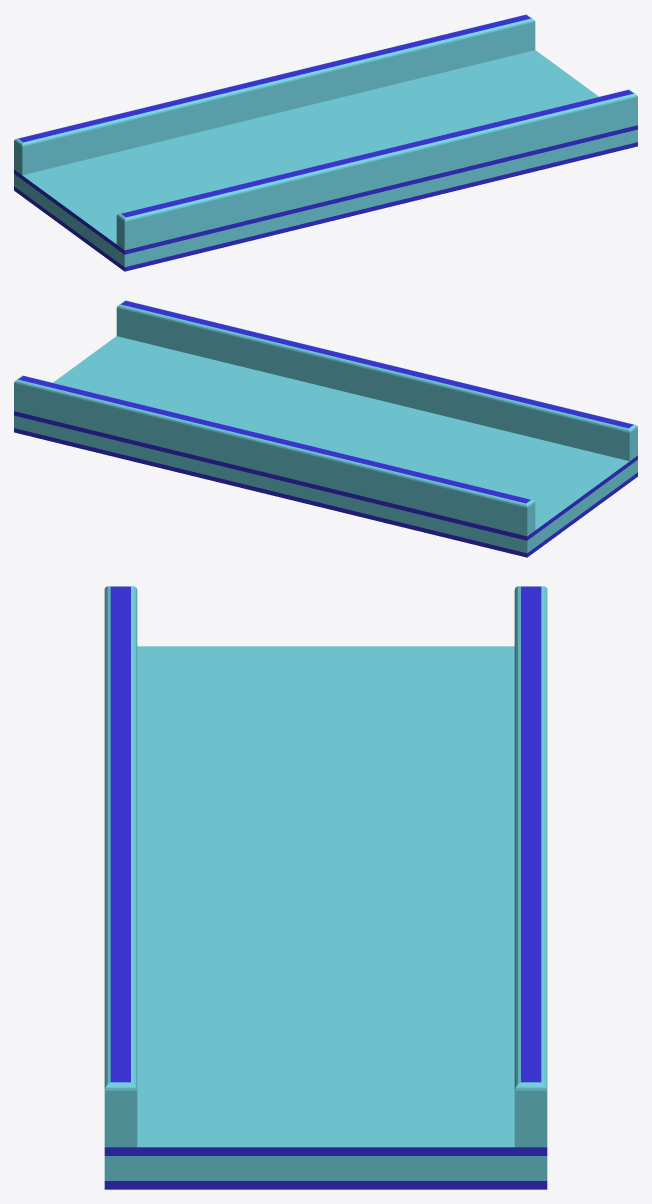
File: Table.fbx
3 views of the same model, one above another, from view 1: azimuth 30°, elevation 25°; view 2: azimuth 150°, elevation 25°; view 3: azimuth 270°, elevation 25° (orthographic). The views are drawn at different scales.
Parts seen in each view (by area): view 1: Cube; view 2: Cube; view 3: Cube.
Part boxes in pixels (x1,y1,x2,y2): Cube: (14,14,637,271); Cube: (14,300,637,557); Cube: (104,586,547,1189).
Bounding box in the file's own units: 883 × 86.04 × 330.
